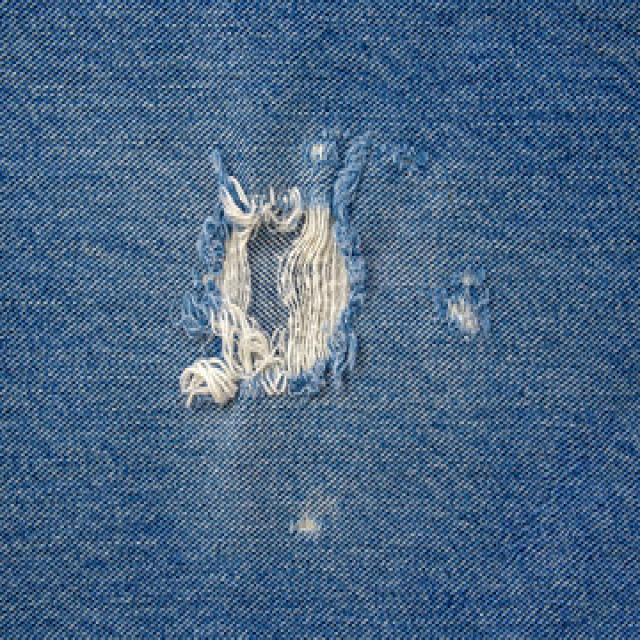Hole: (181, 168, 365, 406), (448, 268, 491, 339), (291, 512, 322, 538)
